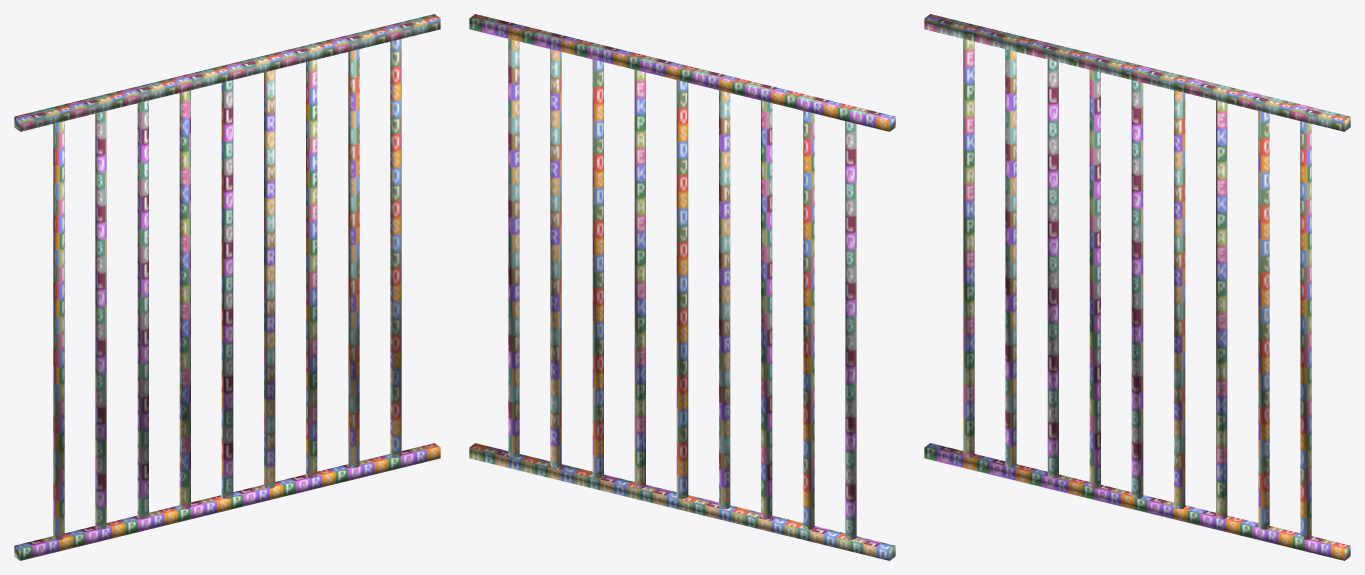
Rendered from bars.obj.
The picture shows the model from 3 angles, left to right: view 1: azimuth 30°, elevation 25°; view 2: azimuth 150°, elevation 25°; view 3: azimuth 330°, elevation 25°; orthographic projection.
Parts seen in each view (by area): view 1: cube1; view 2: cube1; view 3: cube1.
Boxes of the visible parts, x1=… form: cube1: x1=14, y1=14, x2=440, y2=560; cube1: x1=469, y1=14, x2=895, y2=560; cube1: x1=924, y1=14, x2=1350, y2=560.
Bounding box in the file's own units: 10 × 10 × 0.25.
1 material, 1 textured.
